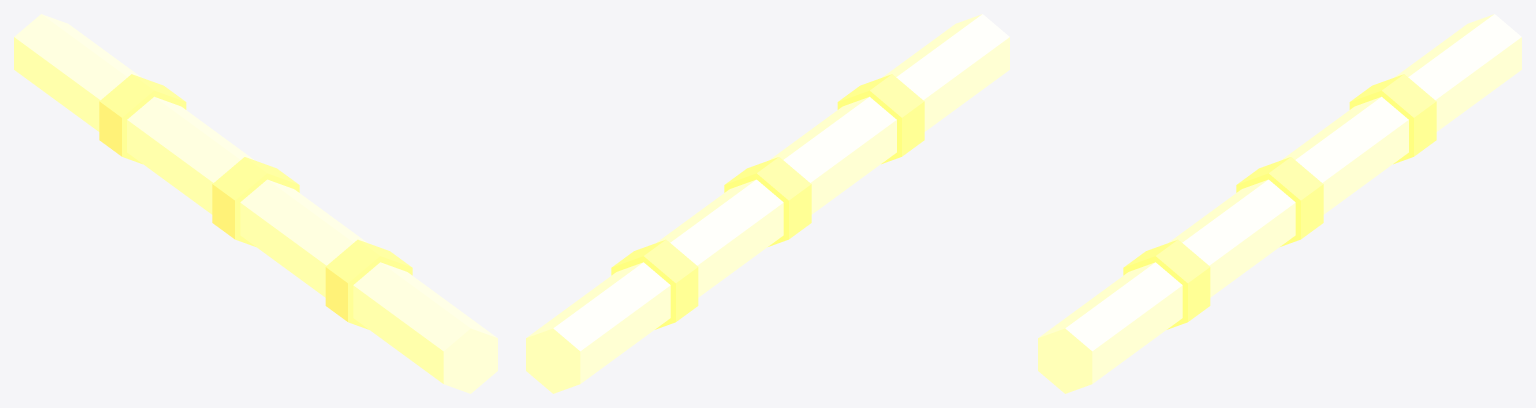
Rendered from cinder_rod_held.gltf.
The picture shows the model from 3 angles, left to right: view 1: azimuth 30°, elevation 25°; view 2: azimuth 150°, elevation 25°; view 3: azimuth 330°, elevation 25°; orthographic projection.
Parts seen in each view (by area): view 1: inferno_cinder_rod_held; view 2: inferno_cinder_rod_held; view 3: inferno_cinder_rod_held.
Boxes of the visible parts, x1,y1,x2,y2 form: inferno_cinder_rod_held: [14, 14, 497, 393]; inferno_cinder_rod_held: [526, 14, 1009, 393]; inferno_cinder_rod_held: [1038, 14, 1521, 393].
Size of the model in its own units: 0.0329 by 0.038 by 0.38.
